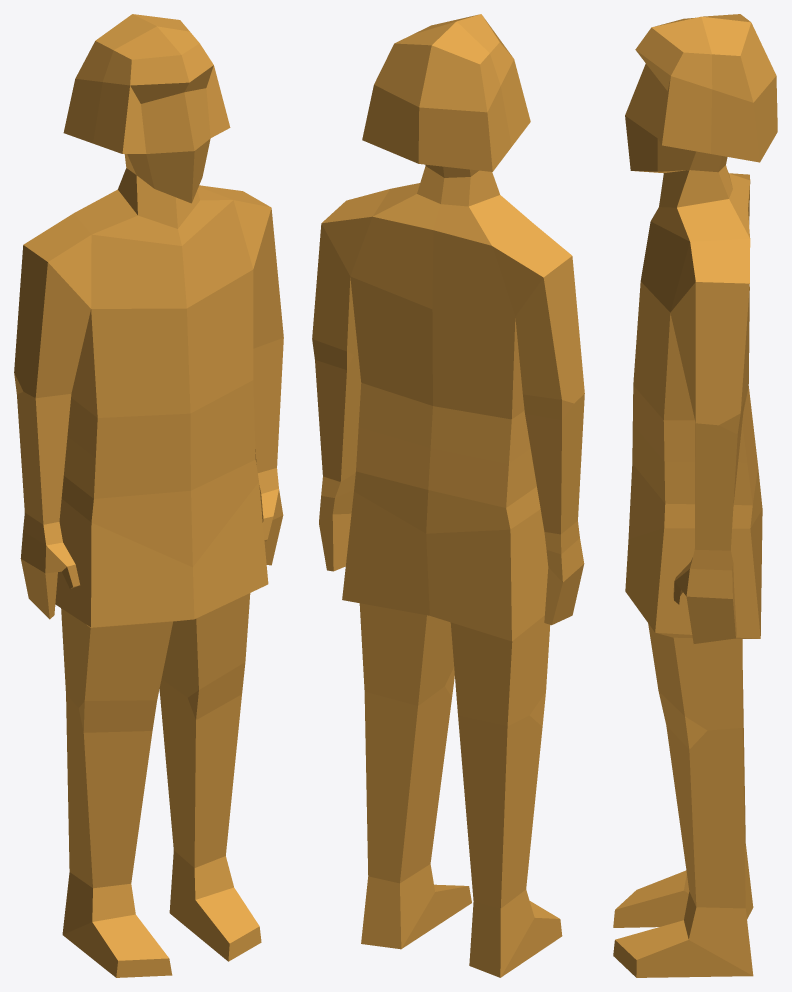
File: man-egypt-worker.fbx
3 renders of one model, left to right at view 1: azimuth 30°, elevation 25°; view 2: azimuth 150°, elevation 25°; view 3: azimuth 270°, elevation 25°, orthographic.
Parts seen in each view (by area): view 1: man-egypt-worker; view 2: man-egypt-worker; view 3: man-egypt-worker.
Part boxes in pixels (box(x1,y1,x2,y2)): man-egypt-worker: box(14, 14, 283, 977); man-egypt-worker: box(312, 14, 584, 977); man-egypt-worker: box(613, 14, 777, 977).
Size of the model in its own units: 0.5348 by 1.86 by 0.3004.
